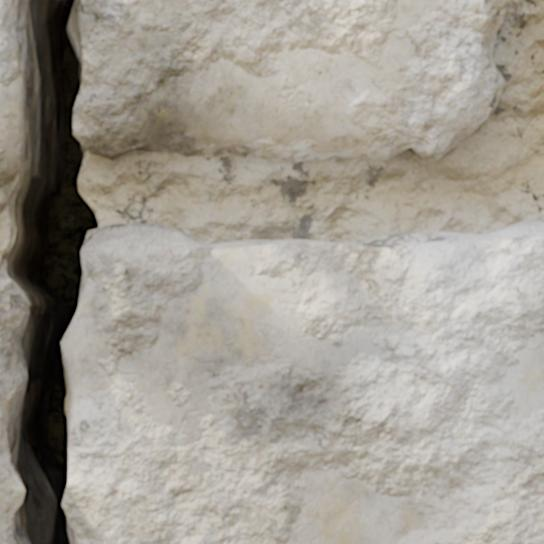broken_brick: (63, 219, 543, 543), (74, 0, 509, 166), (0, 0, 23, 187), (0, 271, 25, 420), (0, 438, 23, 543)
crack: (0, 0, 100, 543)
